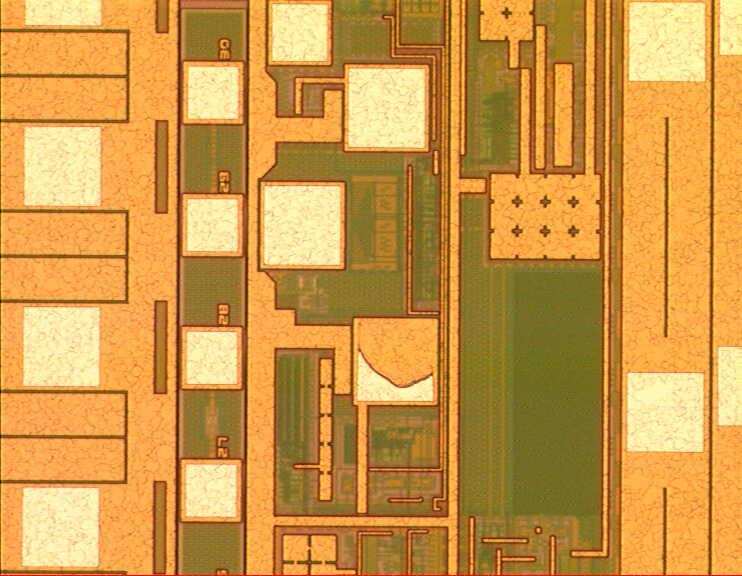BLOCK ETCH: (338, 283, 467, 394)
